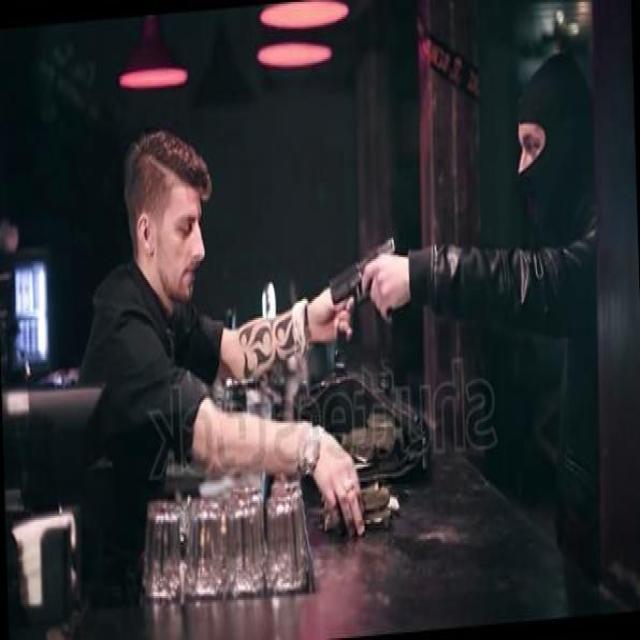pistol: (328, 235, 402, 324)
